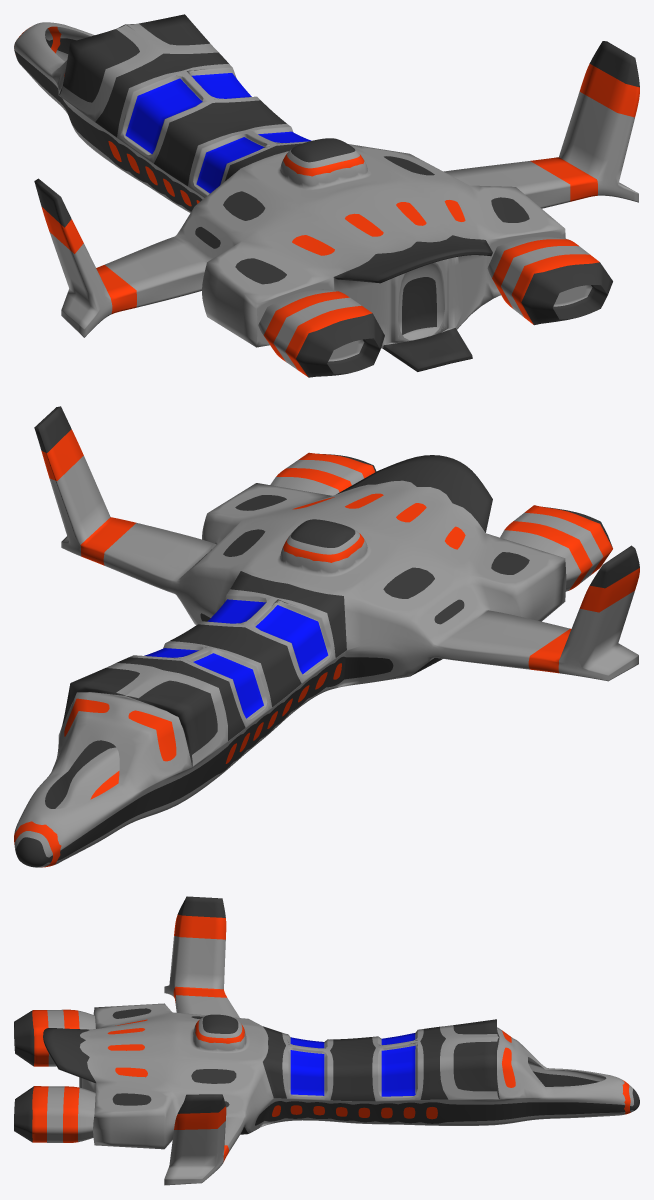
File: Small_Private_Spaceship.FBX
3 renders of one model, top to bottom at view 1: azimuth 30°, elevation 25°; view 2: azimuth 150°, elevation 25°; view 3: azimuth 270°, elevation 25°, orthographic. The views are drawn at different scales.
Visible parts, largest first — view 1: Box001; view 2: Box001; view 3: Box001.
Part boxes in pixels (bbox=[...]): Box001: bbox=[14, 14, 639, 377]; Box001: bbox=[14, 406, 639, 867]; Box001: bbox=[14, 896, 639, 1185].
Bounding box in the file's own units: 842 × 242 × 1110.
